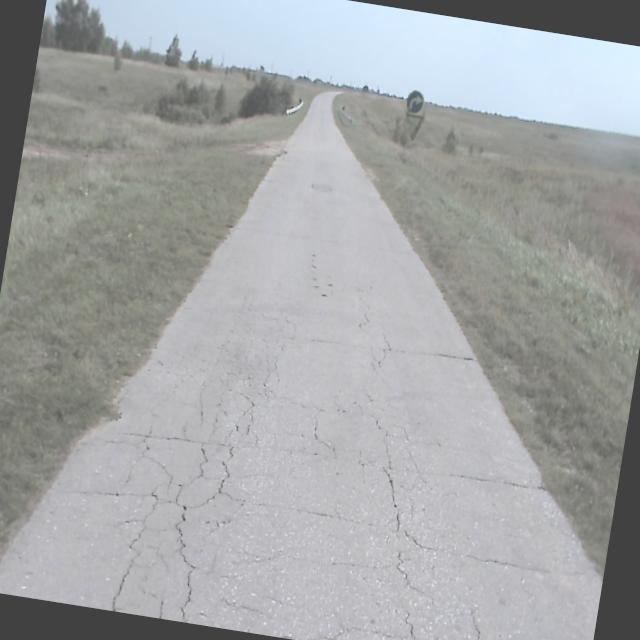road: (0, 105, 601, 640)
